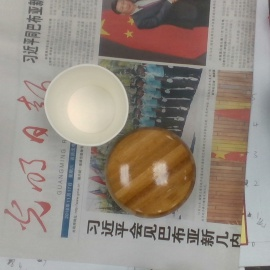bottle: (106, 126, 197, 222)
cup: (43, 63, 129, 147)
